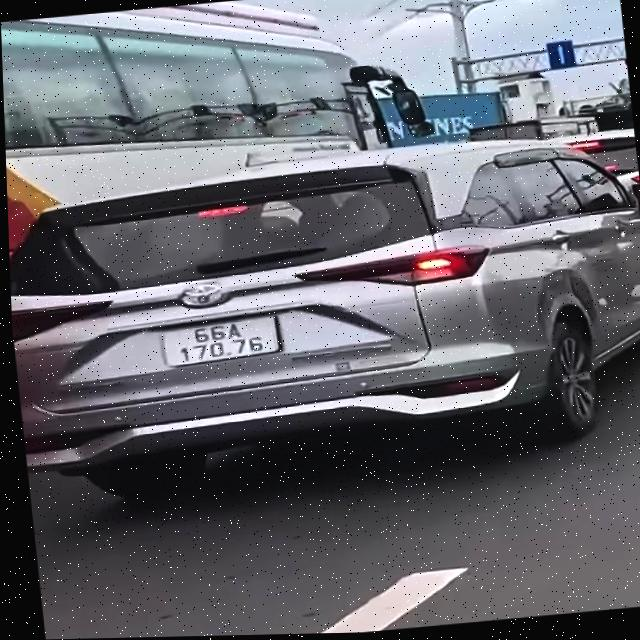car: (5, 122, 640, 494)
plate: (154, 306, 288, 371)
